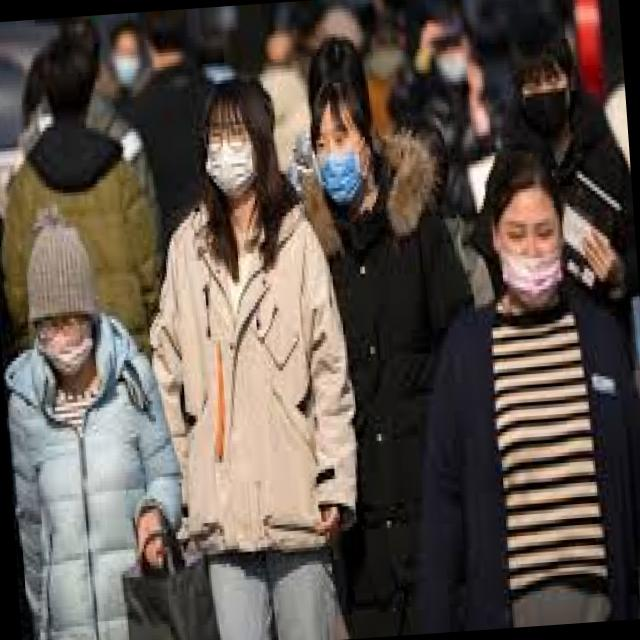Jacket: (136, 189, 379, 605), (395, 289, 640, 634), (312, 161, 482, 551), (0, 326, 193, 640), (0, 110, 166, 390)
